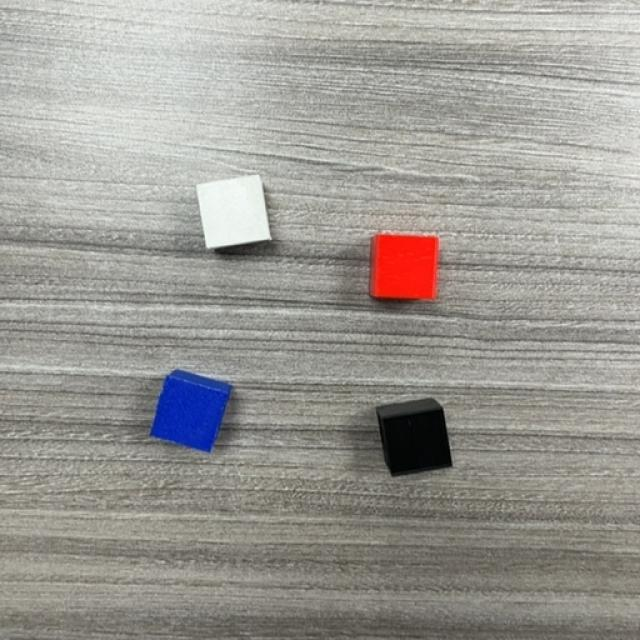Azul: (147, 375, 229, 451)
Blanco: (196, 178, 271, 250)
Negro: (380, 409, 454, 479)
Rojo: (368, 235, 439, 304)
